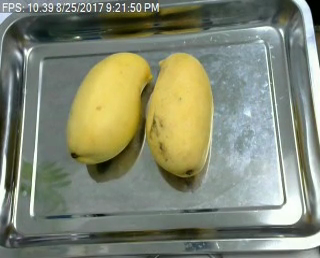Mango: (65, 49, 153, 162), (144, 50, 217, 178)
